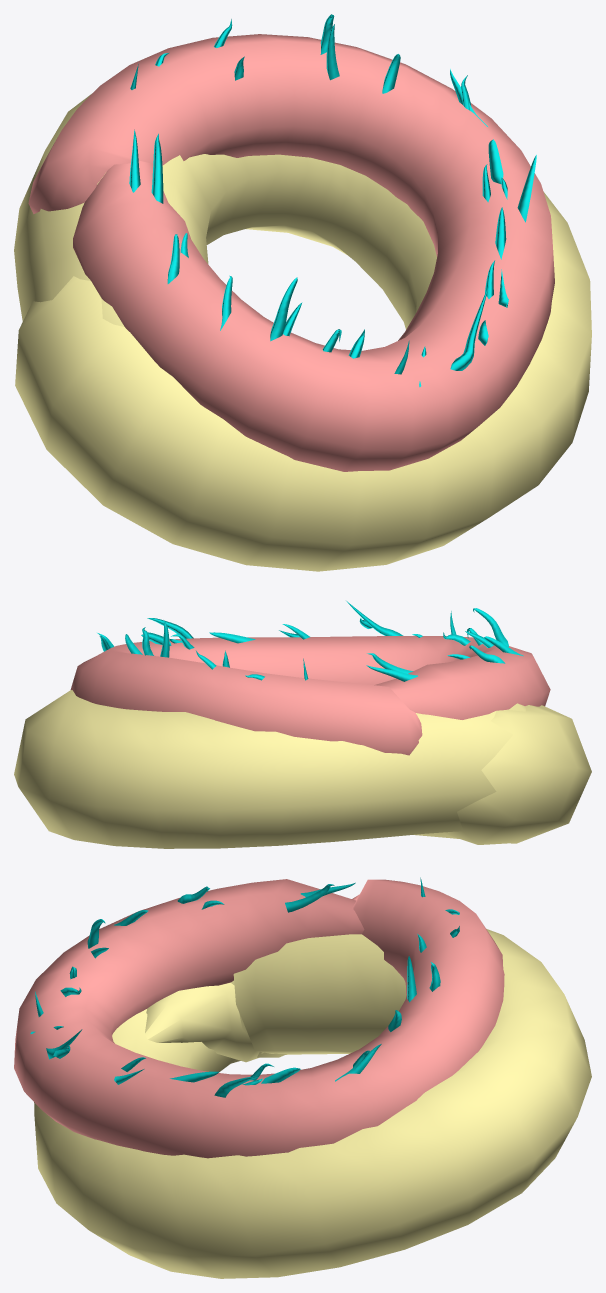
Rendered from donut.glb.
3 renders of one model, top to bottom at view 1: azimuth 30°, elevation 25°; view 2: azimuth 150°, elevation 25°; view 3: azimuth 270°, elevation 25°, orthographic. The views are drawn at different scales.
Parts seen in each view (by area): view 1: RGBA(1.000, 0.369, 0.357, 1.000):ButtonWhite (Instance) (Ins, RGBA(1.000, 0.929, 0.400, 1.000):ButtonWhite (Instance) (Ins, position; view 2: RGBA(1.000, 0.929, 0.400, 1.000):ButtonWhite (Instance) (Ins, RGBA(1.000, 0.369, 0.357, 1.000):ButtonWhite (Instance) (Ins, position; view 3: RGBA(1.000, 0.929, 0.400, 1.000):ButtonWhite (Instance) (Ins, RGBA(1.000, 0.369, 0.357, 1.000):ButtonWhite (Instance) (Ins, position.
Part boxes in pixels (<box>): RGBA(1.000, 0.369, 0.357, 1.000):ButtonWhite (Instance) (Ins: <box>28,34,554,471</box>; RGBA(1.000, 0.929, 0.400, 1.000):ButtonWhite (Instance) (Ins: <box>14,94,591,571</box>; position: <box>129,14,536,387</box>; RGBA(1.000, 0.929, 0.400, 1.000):ButtonWhite (Instance) (Ins: <box>14,690,591,848</box>; RGBA(1.000, 0.369, 0.357, 1.000):ButtonWhite (Instance) (Ins: <box>70,636,550,755</box>; position: <box>97,601,523,681</box>; RGBA(1.000, 0.929, 0.400, 1.000):ButtonWhite (Instance) (Ins: <box>34,929,591,1278</box>; RGBA(1.000, 0.369, 0.357, 1.000):ButtonWhite (Instance) (Ins: <box>14,879,504,1158</box>; position: <box>30,877,459,1097</box>.
Size of what is drawn, in the model's own units: 0.2993 by 0.18 by 0.306.
